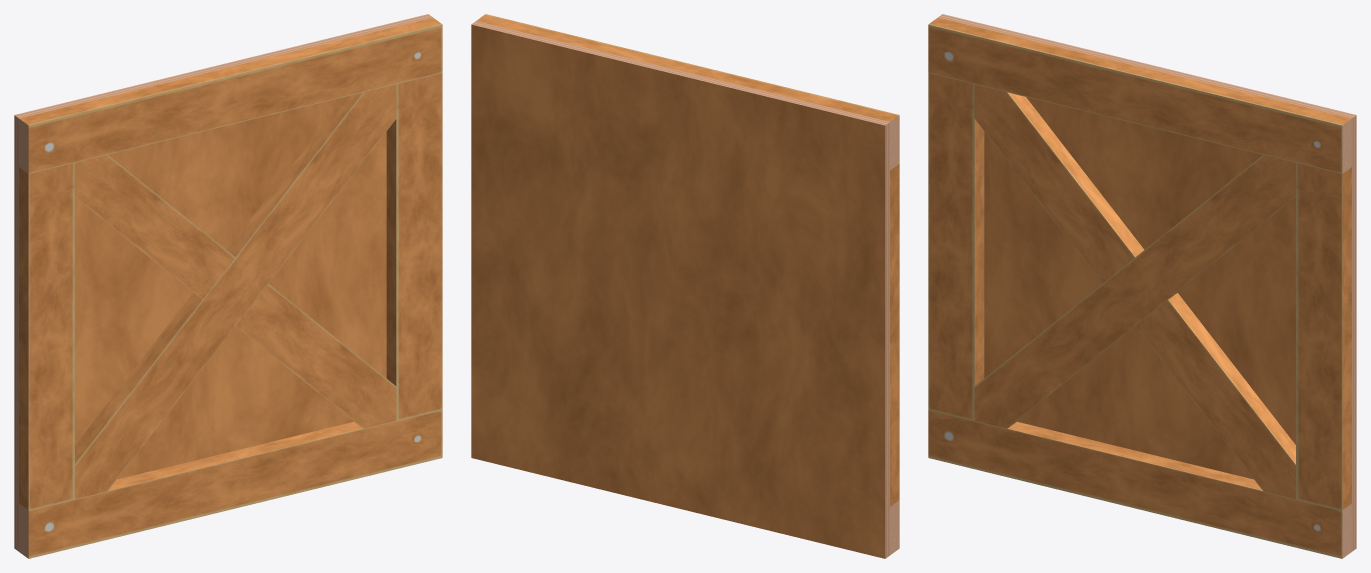
Rendered from Box_Side_1.fbx.
The picture shows the model from 3 angles, left to right: view 1: azimuth 30°, elevation 25°; view 2: azimuth 150°, elevation 25°; view 3: azimuth 330°, elevation 25°; orthographic projection.
Visible parts, largest first — view 1: Box_Side_1; view 2: Box_Side_1; view 3: Box_Side_1.
Part boxes in pixels (x1,y1,x2,y2): Box_Side_1: (14,14,442,558); Box_Side_1: (471,14,899,558); Box_Side_1: (928,14,1356,558).
Size of the model in its own units: 2 by 2 by 0.1208.
